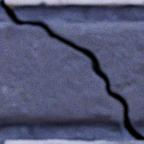brick: (6, 0, 143, 6), (6, 140, 143, 143)
broken_brick: (0, 23, 123, 123), (47, 22, 143, 122)
crack: (0, 0, 143, 141)
